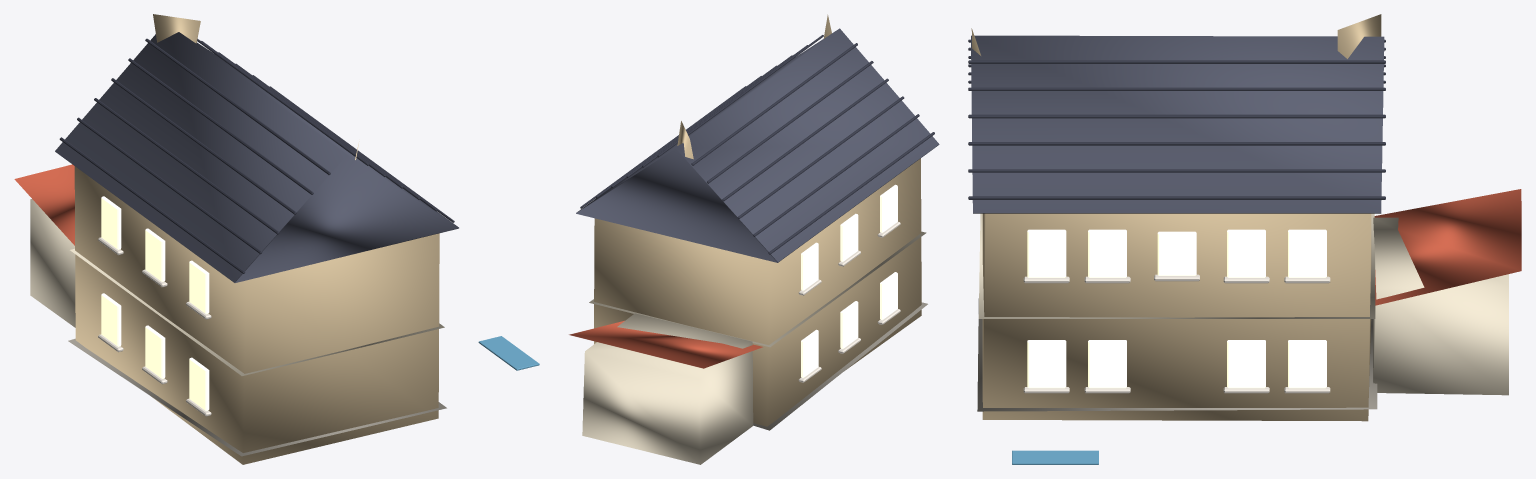
Rendered from farmhouse.glb.
3 renders of one model, left to right at view 1: azimuth 30°, elevation 25°; view 2: azimuth 150°, elevation 25°; view 3: azimuth 270°, elevation 25°, orthographic. The views are drawn at different scales.
Parts seen in each view (by area): view 1: farmhouse; view 2: farmhouse; view 3: farmhouse.
Part boxes in pixels (bbox=[...]): farmhouse: bbox=[14, 14, 539, 464]; farmhouse: bbox=[569, 14, 939, 464]; farmhouse: bbox=[968, 14, 1521, 464].
Size of the model in its own units: 9.75 by 8.85 by 12.75.
1 material, 1 textured.
